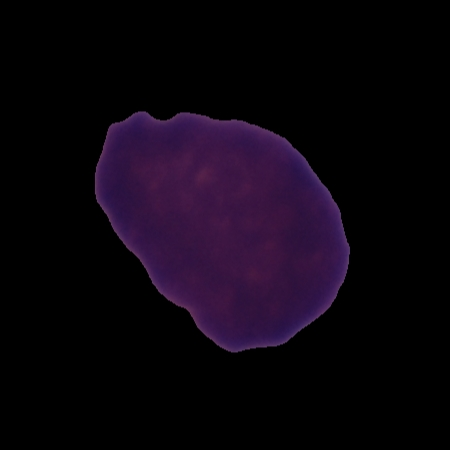ALL: (90, 106, 354, 355)
